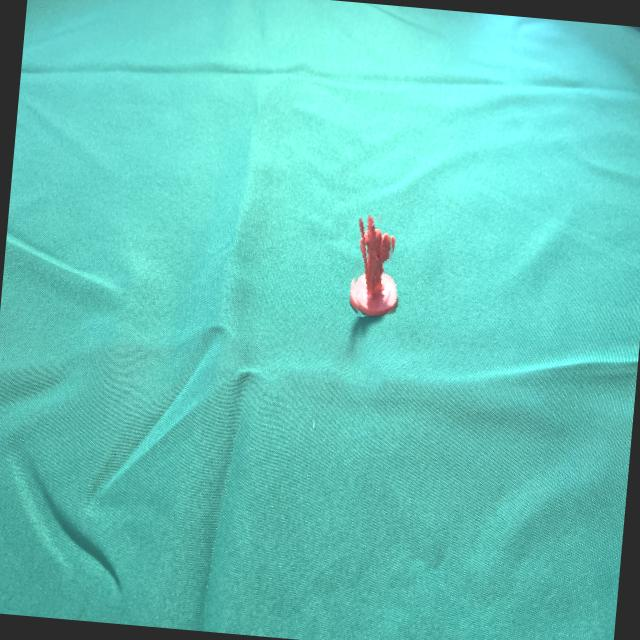amon_follower: (354, 216, 398, 315)
